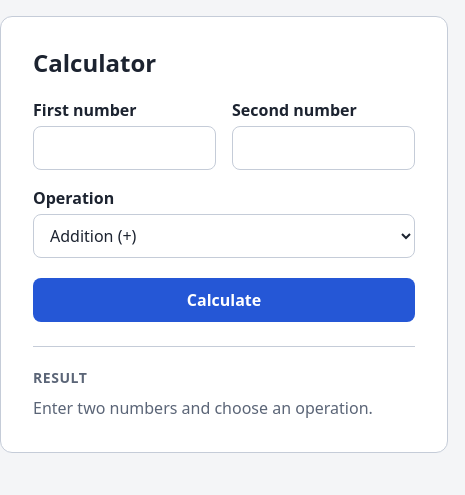
it: Calculator › validation › clears the division-by-zero error when the operation changes
Type "1" into the field labelled "First number" at (124, 148), box [33,126,216,170]
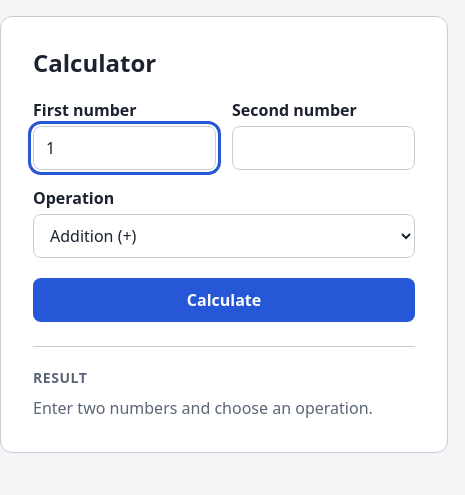
Type "0" into the field labelled "Second number" at (324, 148), box [232,126,415,170]
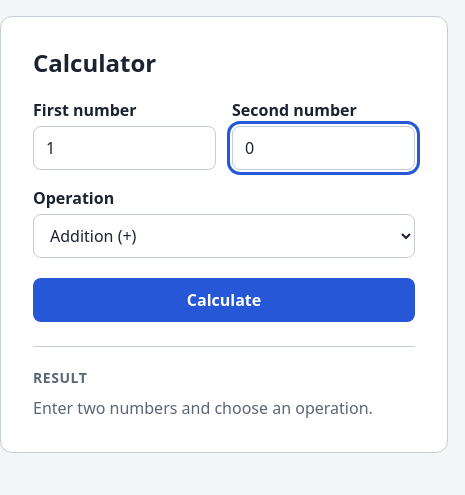
Select "Division (÷)" in the dropdown labelled "Operation" at (224, 236), box [33,214,415,258]
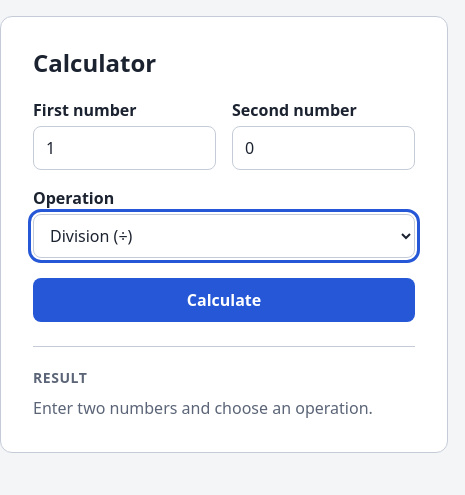
Click the button "Calculate" at (224, 300), box [33,278,415,322]
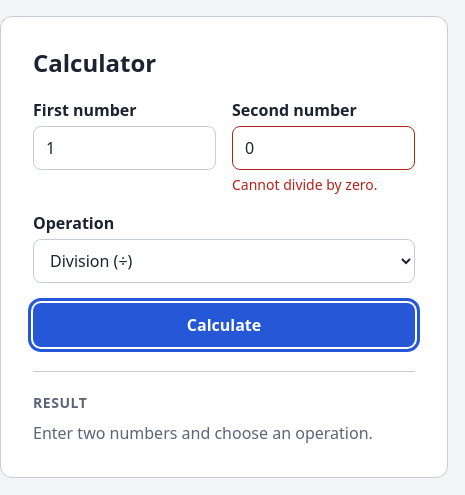
Expected: the text "Cannot divide by zero." is shown, [232,175,378,194]
Select "Addition (+)" in the dropdown labelled "Operation" at (224, 261), box [33,239,415,283]
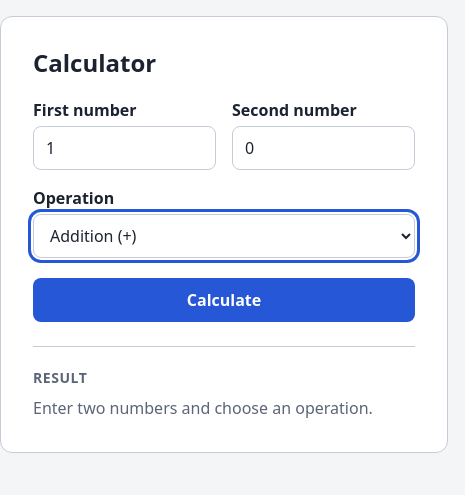
Expected: the text "Cannot divide by zero." is gone
